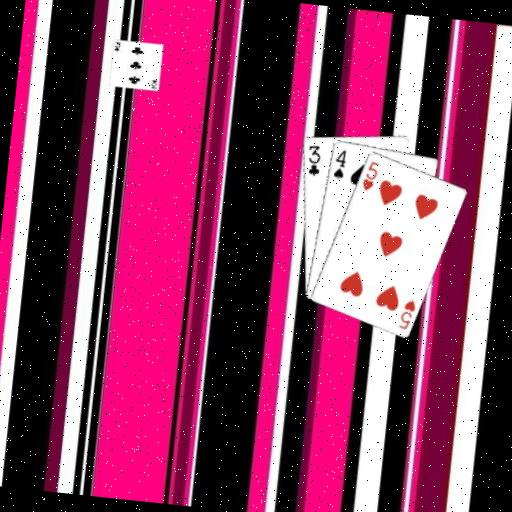3C: (302, 141, 324, 178)
4S: (329, 146, 348, 181)
5H: (396, 295, 418, 332), (359, 157, 381, 193)
